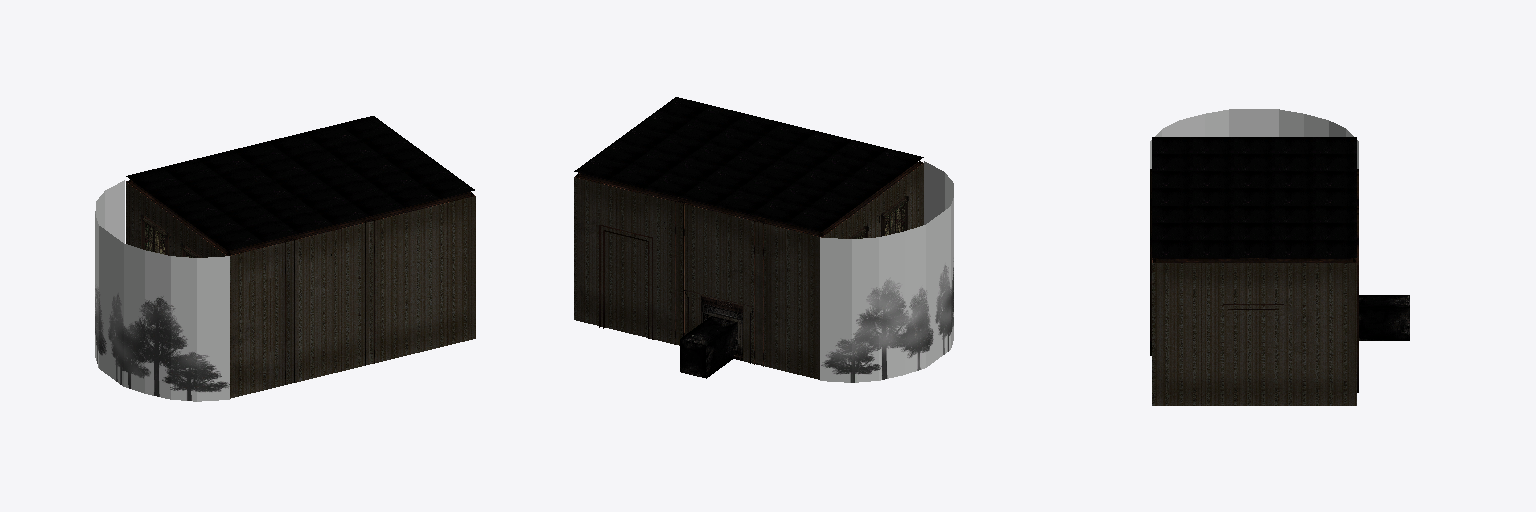
3 views of the same model, side by side, from view 1: azimuth 30°, elevation 25°; view 2: azimuth 150°, elevation 25°; view 3: azimuth 270°, elevation 25° (orthographic).
Parts seen in each view (by area): view 1: gr_3, gr_2, gr_0, gr_10; view 2: gr_3, gr_2, gr_0, gr_7, gr_10, gr_9; view 3: gr_3, gr_2, gr_0, gr_7, gr_10.
Boxes of the visible parts, x1,y1,x2,y2 form: gr_3: [126, 182, 475, 398]; gr_2: [126, 116, 474, 250]; gr_0: [95, 180, 229, 401]; gr_10: [126, 180, 474, 384]; gr_3: [574, 163, 923, 379]; gr_2: [574, 97, 923, 231]; gr_0: [820, 161, 953, 382]; gr_7: [680, 290, 752, 378]; gr_10: [575, 161, 922, 366]; gr_9: [599, 196, 908, 339]; gr_3: [1152, 263, 1356, 405]; gr_2: [1152, 137, 1356, 257]; gr_0: [1150, 109, 1358, 168]; gr_7: [1359, 295, 1409, 340]; gr_10: [1150, 169, 1358, 355].
Bounding box in the file's own units: 7.12 × 3.21 × 5.09.
12 materials, 12 textured.